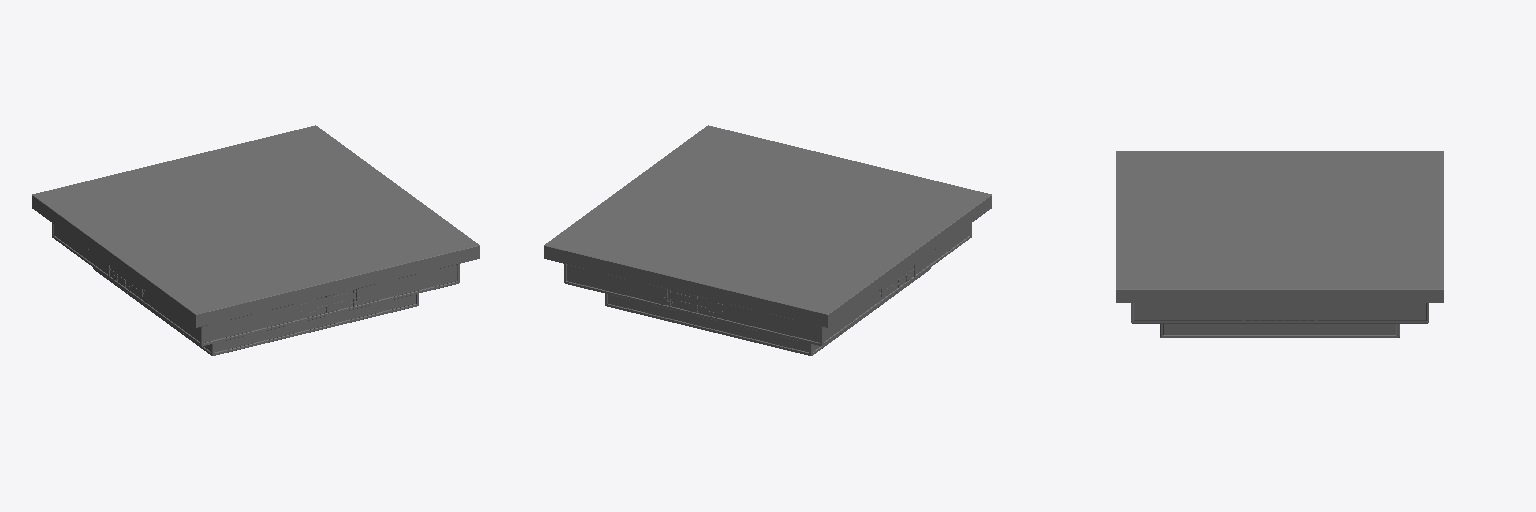
The picture shows the model from 3 angles: view 1: azimuth 30°, elevation 25°; view 2: azimuth 150°, elevation 25°; view 3: azimuth 270°, elevation 25°; orthographic projection.
Visible parts, largest first — view 1: solid_001, glass_001; view 2: solid_001, glass_001; view 3: solid_001, glass_001.
Boxes of the visible parts, x1,y1,x2,y2 form: solid_001: [32, 125, 479, 355]; glass_001: [54, 225, 456, 352]; solid_001: [544, 125, 991, 355]; glass_001: [567, 225, 969, 352]; solid_001: [1116, 151, 1443, 337]; glass_001: [1134, 303, 1425, 334].
Bounding box in the file's own units: 2 × 0.4842 × 2.